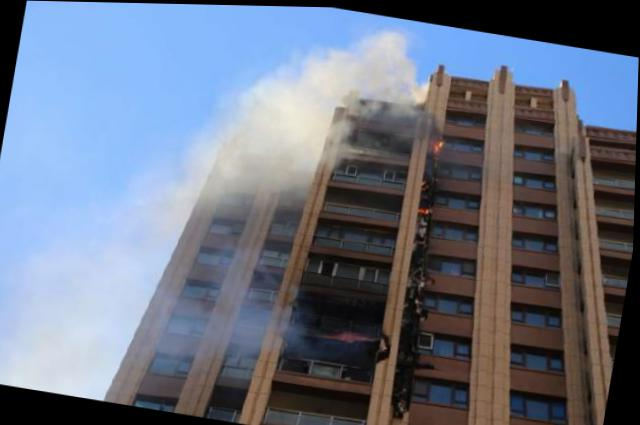fire: (416, 195, 435, 218), (428, 133, 446, 155)
